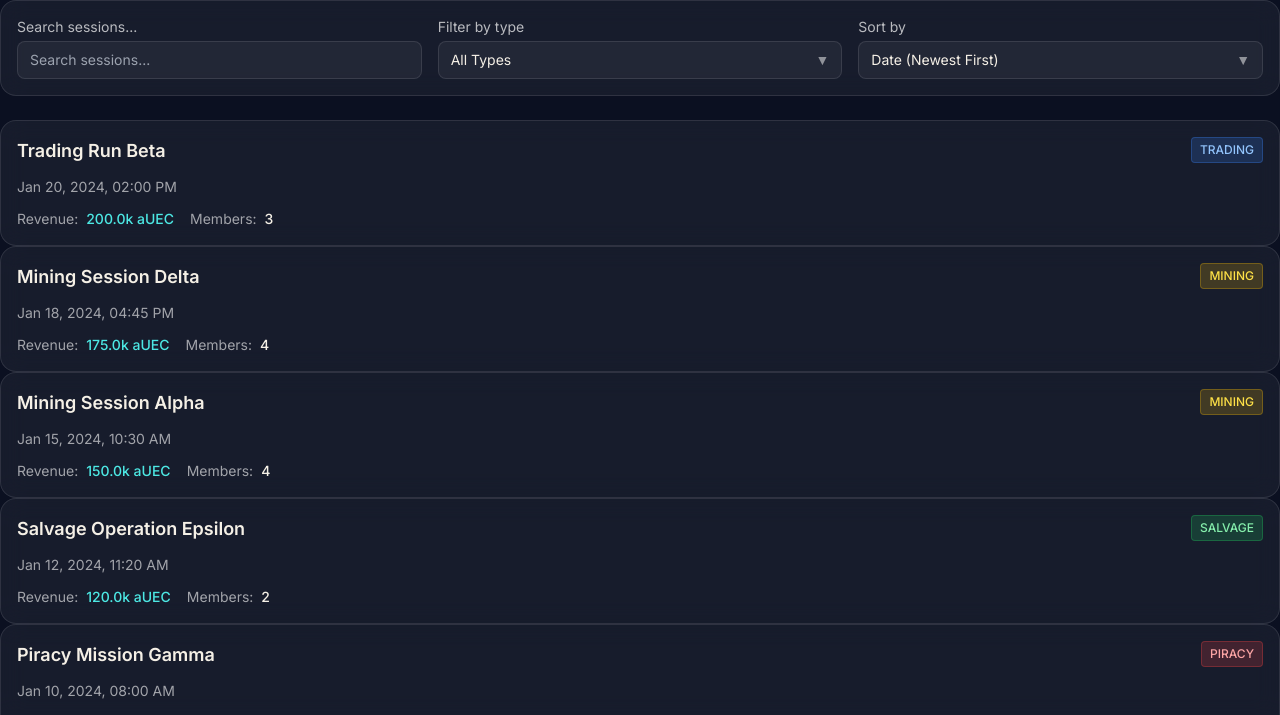
Scenario: SessionList - Search Filtering › should filter sessions by name (case-insensitive)
In the field with placeholder "Search sessions...": {"x": 219, "y": 60} [17,41,422,79], type "mining"
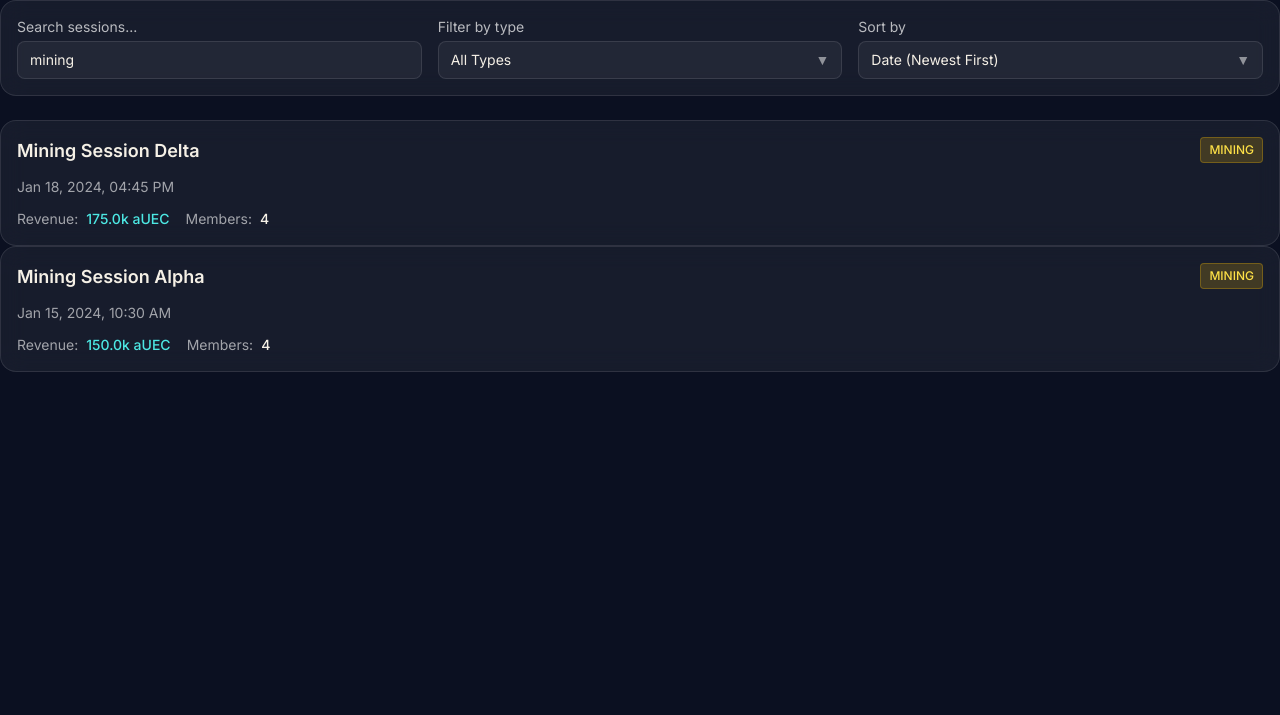
Result: the link "Trading Run Beta" is gone
Result: the link "Piracy Mission Gamma" is gone
Result: the link "Salvage Operation Epsilon" is gone
